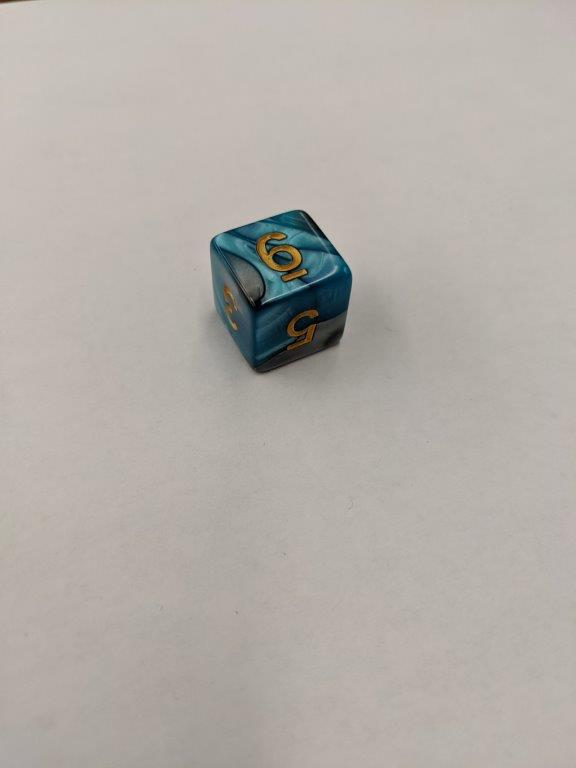d6-6: (214, 207, 350, 374)
